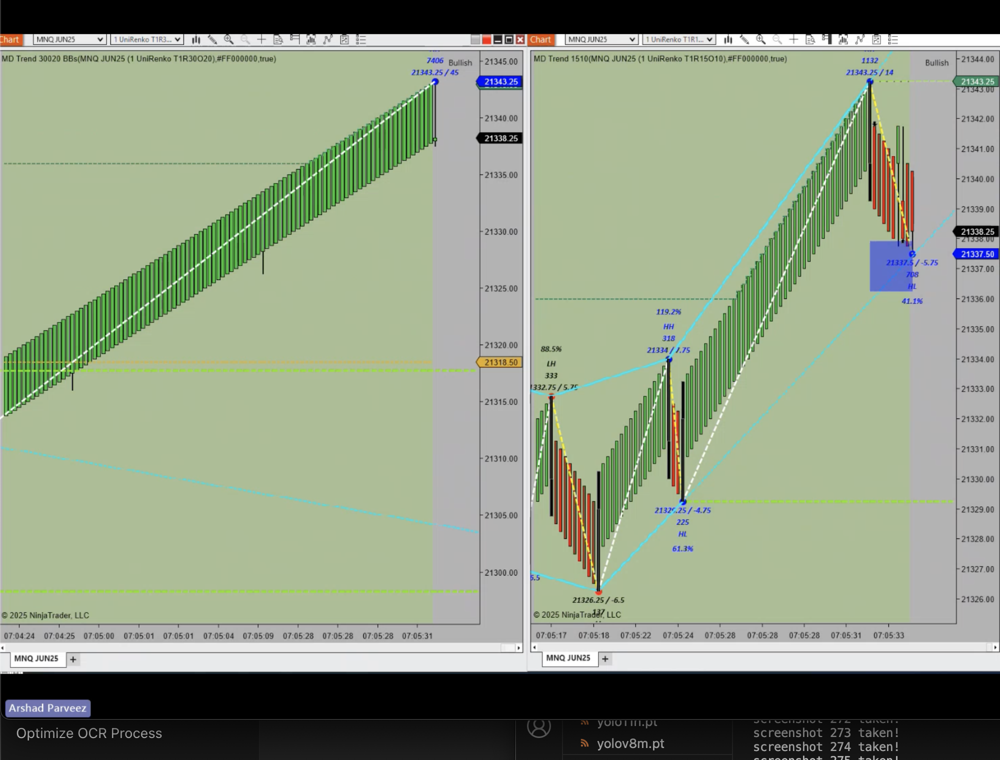HH: (660, 319, 682, 332)
HL: (903, 278, 927, 296), (674, 526, 694, 542)
LH: (541, 352, 563, 372)
